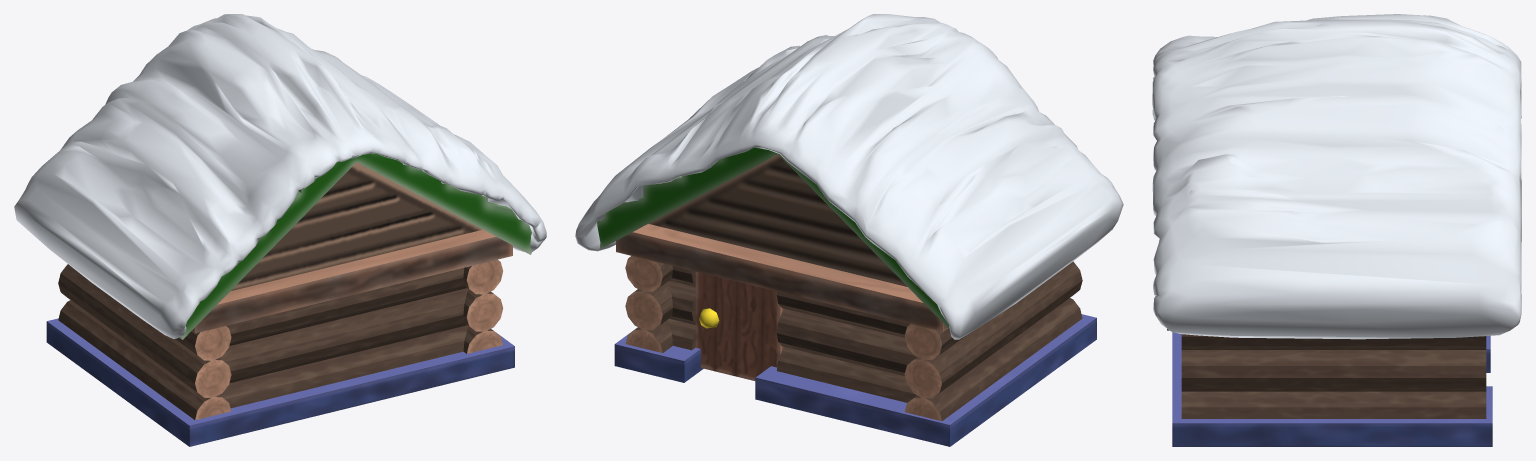
Rendered from cabin_7.glb.
3 views of the same model, side by side, from view 1: azimuth 30°, elevation 25°; view 2: azimuth 150°, elevation 25°; view 3: azimuth 270°, elevation 25° (orthographic). The views are drawn at different scales.
Visible parts, largest first — view 1: Snow, Wall Back.012, Base.006, Top of House.006, Wall Right.008, Plank.048, Roof.006, Wall Left.008; view 2: Snow, Base.006, Top of House.006, Wall Front.004, Wall Right.008, Plank.048, Door, Roof.006, Wall Left.008; view 3: Snow, Wall Left.008, Base.006.
Boxes of the visible parts, x1,y1,x2,y2 form: Snow: (14,14,546,338); Wall Back.012: (219,268,468,408); Base.006: (46,318,514,446); Top of House.006: (231,162,482,290); Wall Right.008: (58,264,231,420); Plank.048: (191,229,512,333); Roof.006: (179,153,532,339); Wall Left.008: (463,259,503,353); Snow: (575,14,1123,339); Base.006: (614,314,1096,446); Top of House.006: (648,154,907,286); Wall Front.004: (668,266,916,402); Wall Right.008: (904,261,1082,421); Plank.048: (616,224,947,331); Door: (695,271,784,380); Roof.006: (597,147,949,329); Wall Left.008: (625,256,672,352); Snow: (1152,14,1521,339); Wall Left.008: (1181,334,1486,418); Base.006: (1172,332,1492,446).
Bounding box in the file's own units: 6.37 × 4.91 × 4.85.
Materials: 9 (8 with a texture image).
